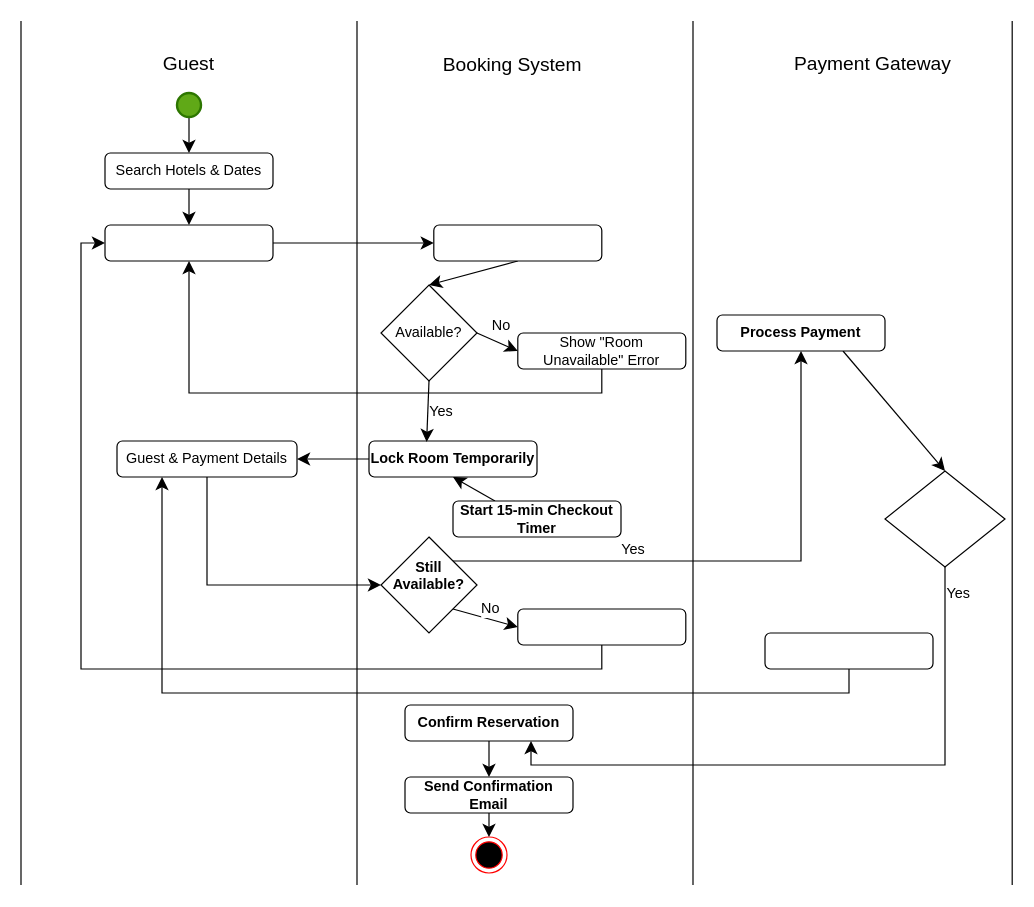
The diagram is 1034 pixels wide and 907 high, and some of its shapes have lost their labels. The centre of each missing label's shape, as x and y in pixels:
Check Room Availability: the point at 517,242
Payment Successful?: the point at 944,518
Select Desired Room: the point at 188,242
Show "Room No Longer Available": the point at 601,626
Show Payment Error: the point at 848,650
